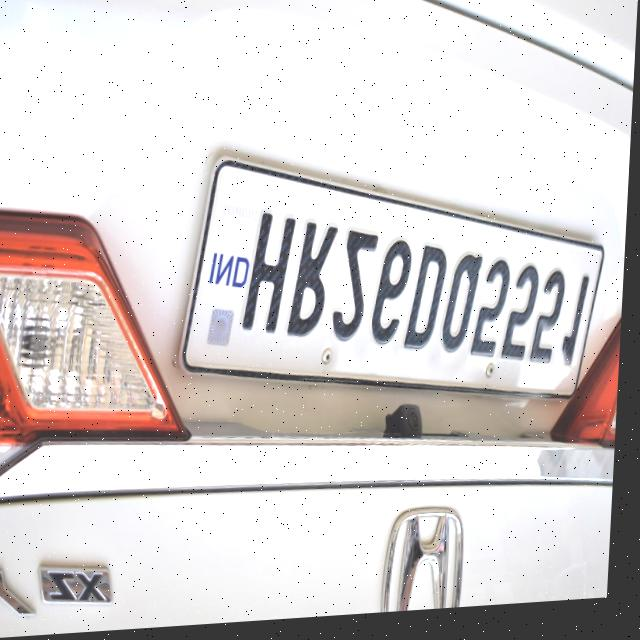plate: (169, 120, 622, 440)
